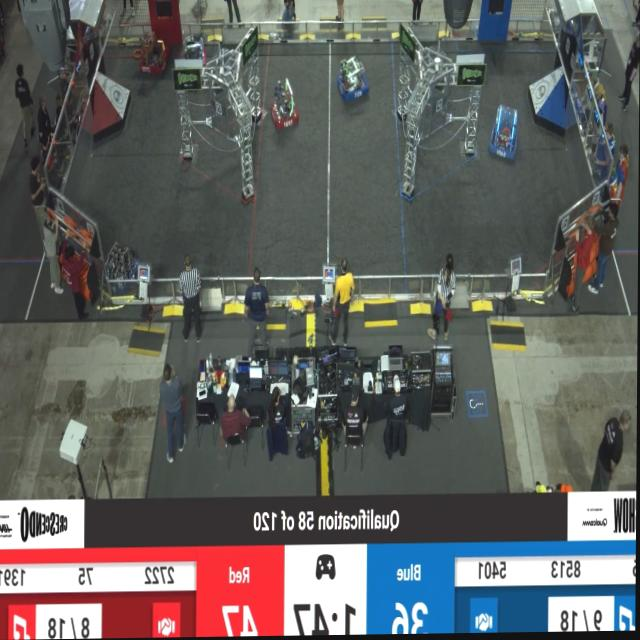Robot: (99, 235, 141, 300), (487, 104, 517, 163), (270, 78, 300, 136), (337, 55, 370, 107), (136, 31, 169, 80), (178, 22, 205, 73)
